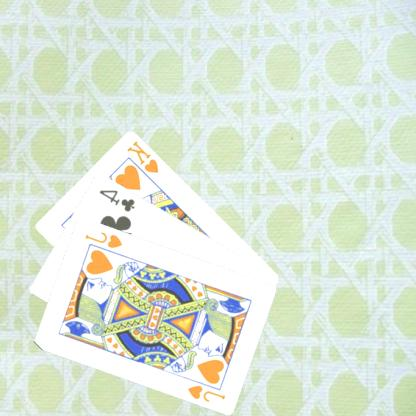4C: (98, 186, 138, 213)
JH: (84, 228, 126, 250), (187, 382, 228, 403)
KH: (126, 138, 162, 174)
